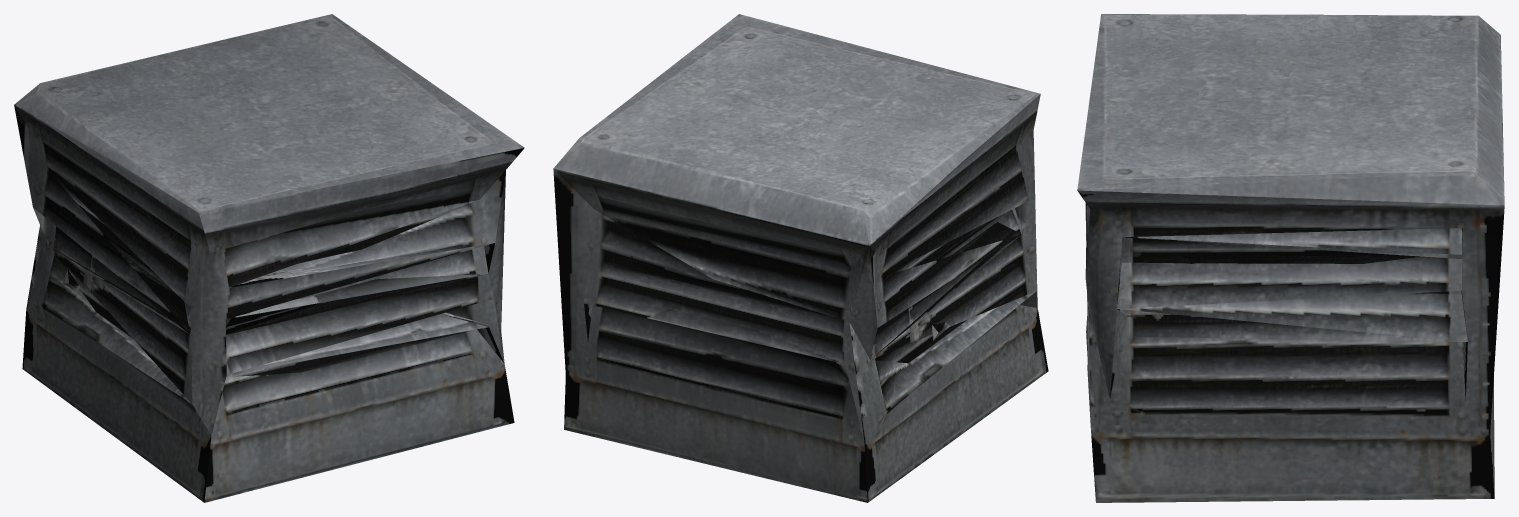
Rendered from vent-assembly.glb.
The picture shows the model from 3 angles, left to right: view 1: azimuth 30°, elevation 25°; view 2: azimuth 150°, elevation 25°; view 3: azimuth 270°, elevation 25°; orthographic projection. The views are drawn at different scales.
Parts seen in each view (by area): view 1: vent-assembly; view 2: vent-assembly; view 3: vent-assembly.
Part boxes in pixels (x1,y1,x2,y2): vent-assembly: [14, 14, 524, 502]; vent-assembly: [553, 14, 1048, 502]; vent-assembly: [1077, 14, 1504, 502].
Size of the model in its own units: 1.2 by 1 by 1.2.
Materials: 1 (1 with a texture image).
